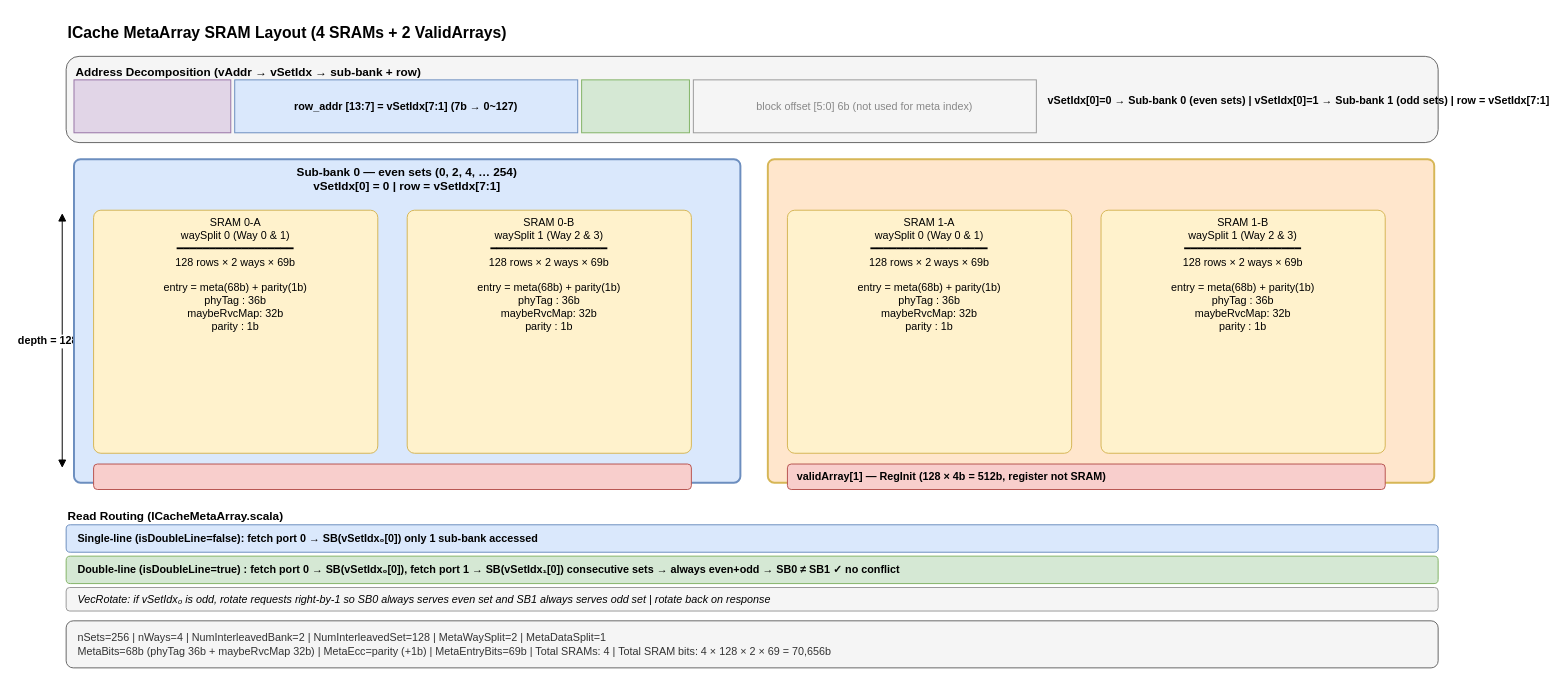
Image size: 1566x685. Some labels were removed from this diagram. Here are the shapes that lost their labels. From the top down, the box of each, then its label:
(73, 79, 231, 133): pTag [47:12] 36b
(581, 79, 689, 133): SB sel [6] vSetIdx[0] 1b
(766, 158, 1435, 483): Sub-bank 1 — odd sets (1, 3, 5, … 255) vSetIdx[0] = 1 | row = vSetIdx[7:1]
(93, 463, 691, 490): validArray[0] — RegInit (128 × 4b = 512b, register not SRAM)
